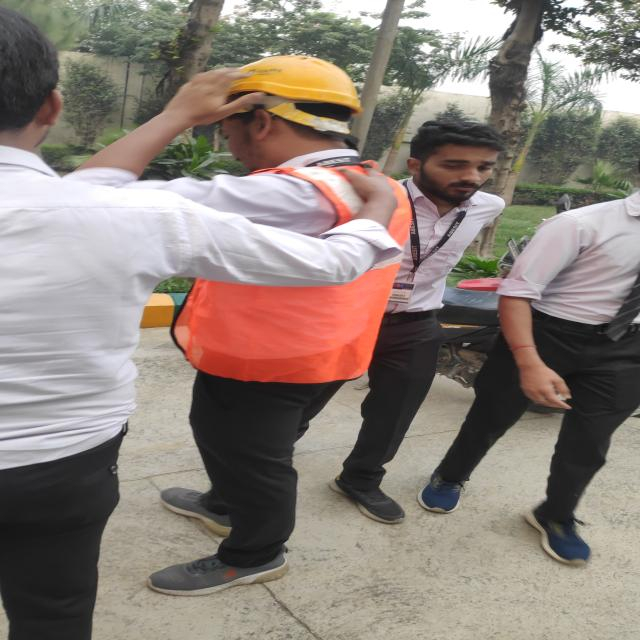safe: (122, 54, 402, 609)
unsafe: (382, 115, 515, 522)
